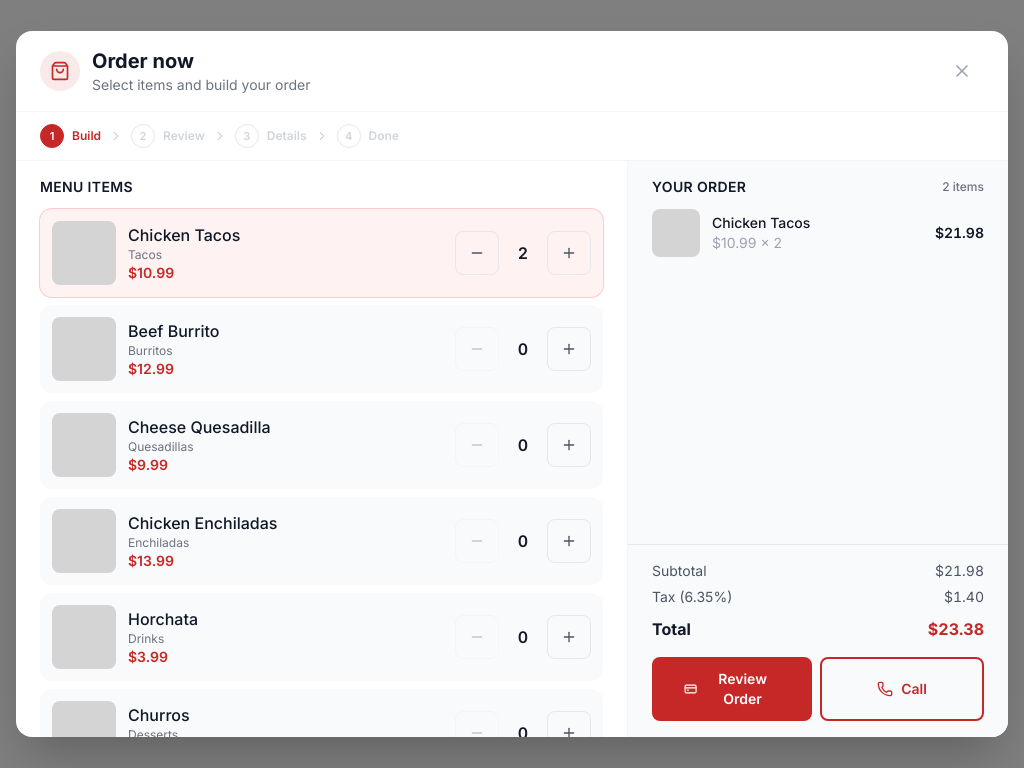
Test: OrderModal flow › walks build → review → details → confirmation and saves the order
Click the button "Review Order".
click(732, 689)  # box [652,657,812,721]
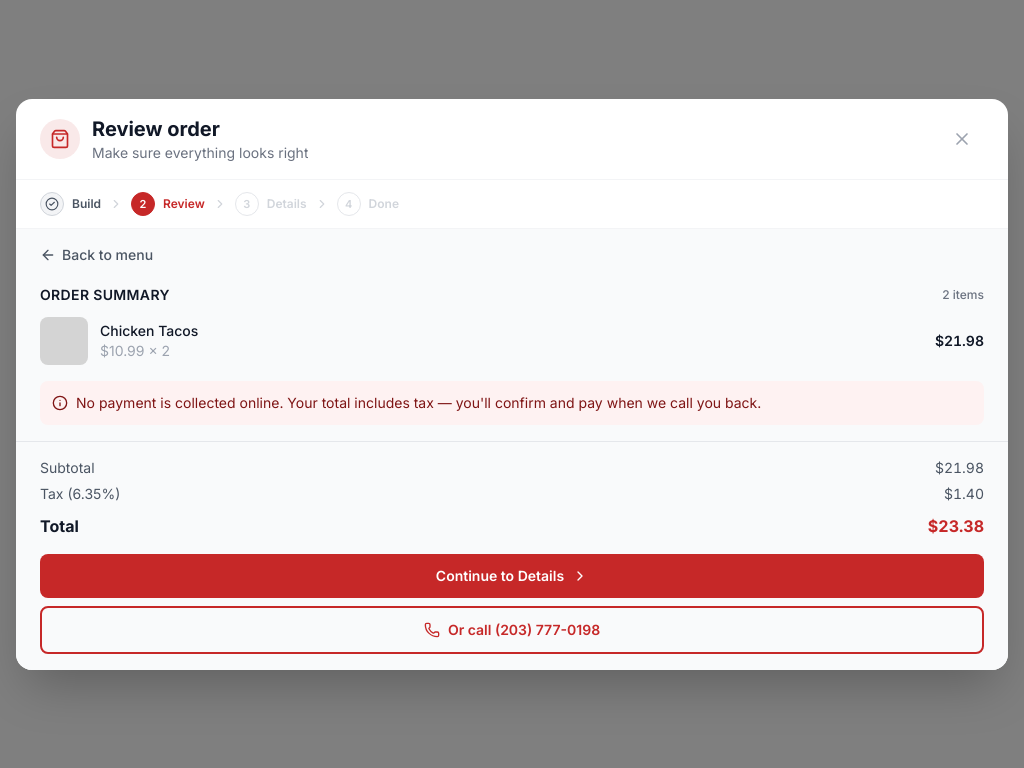
Click the button "Continue to Details".
click(512, 576)  # box [40,554,984,598]
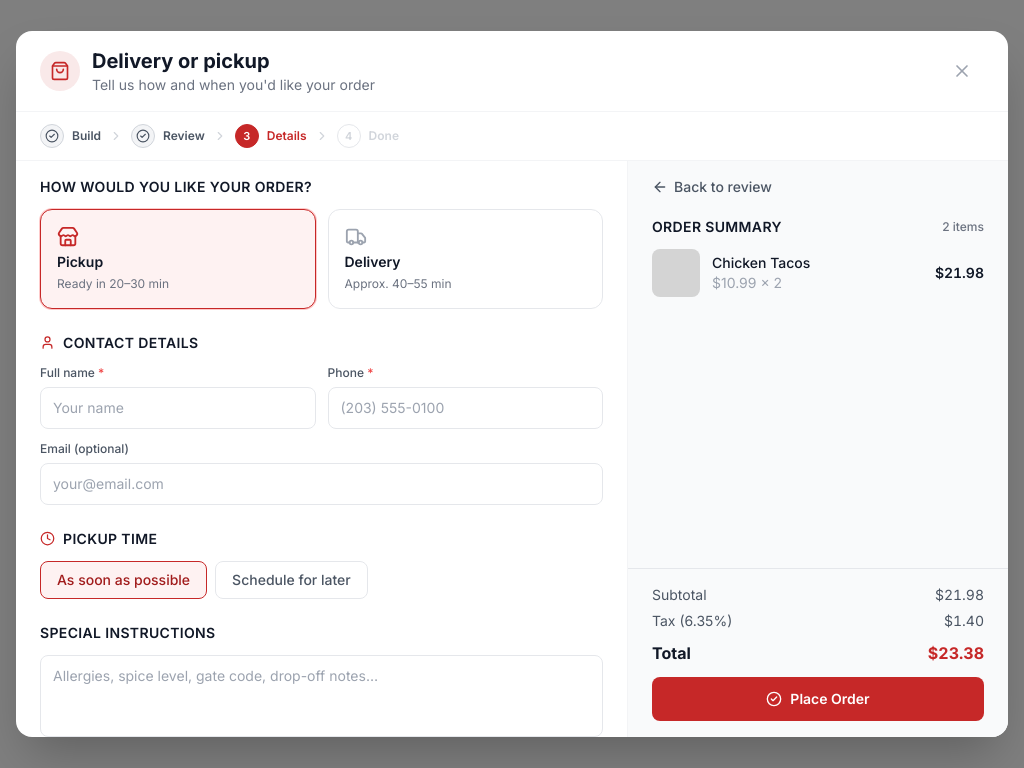
Type "Jane Doe" into the field with placeholder "Your name".
click(178, 408); type("Jane Doe")  # box [40,387,316,429]
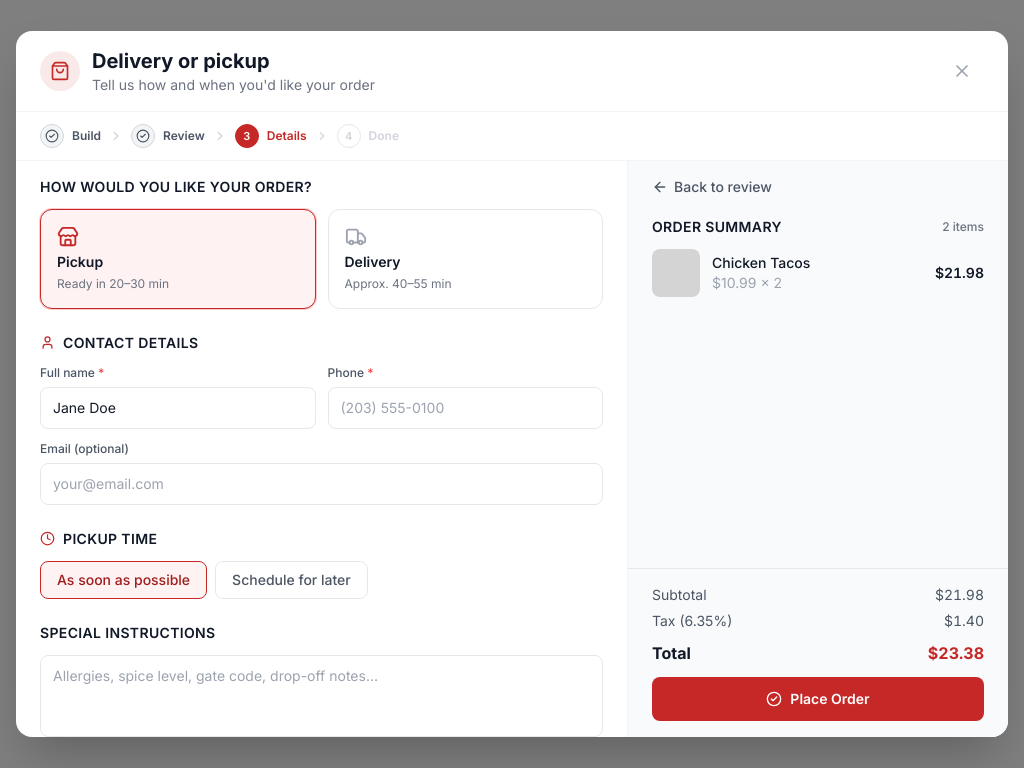
Type "2035550100" into the field with placeholder "(203) 555-0100".
click(465, 408); type("2035550100")  # box [328,387,603,429]
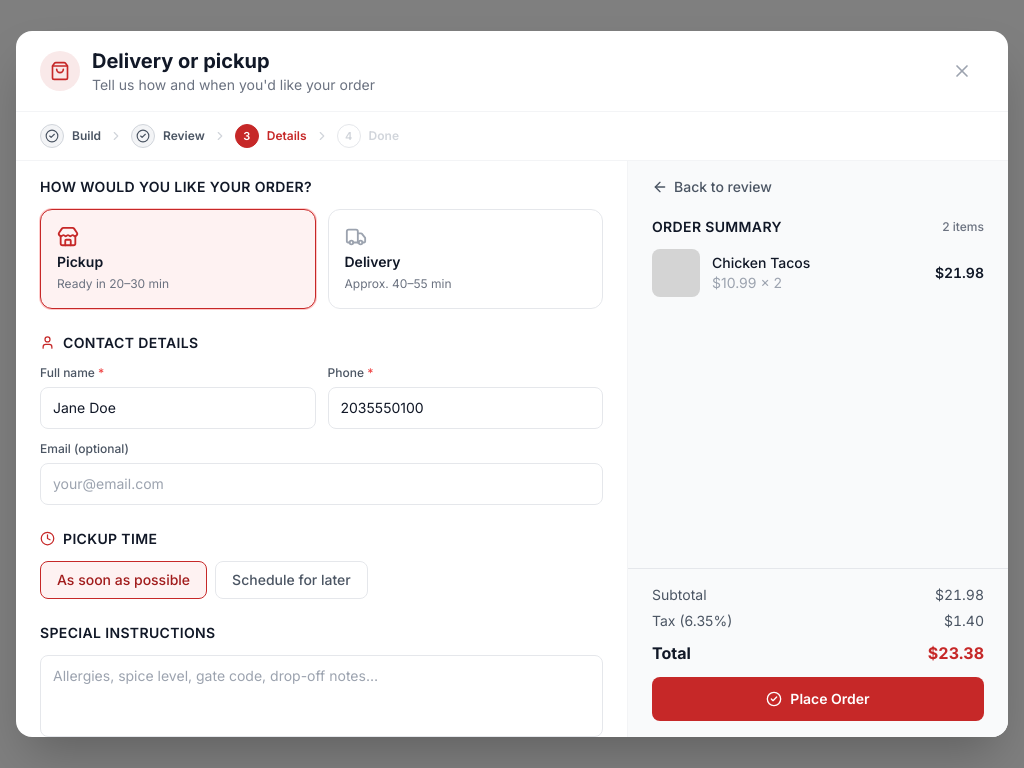
Click the button "Place Order".
click(818, 699)  # box [652,677,984,721]
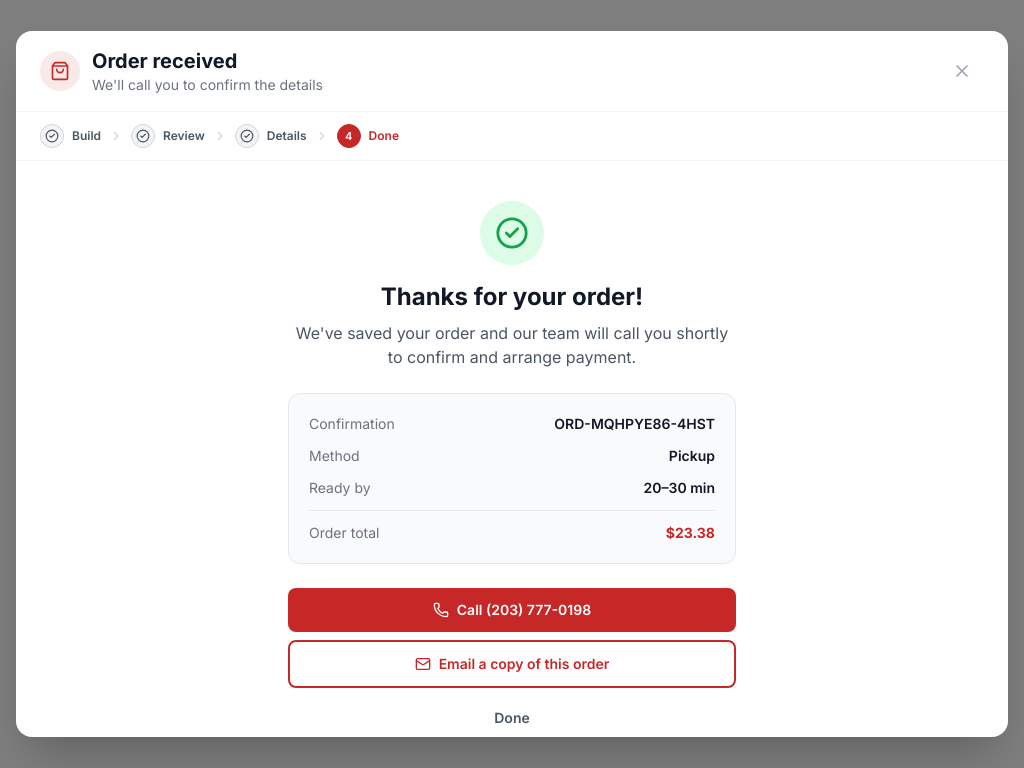
Check: the heading "Thanks for your order!" is shown, box [381,282,643,311]
